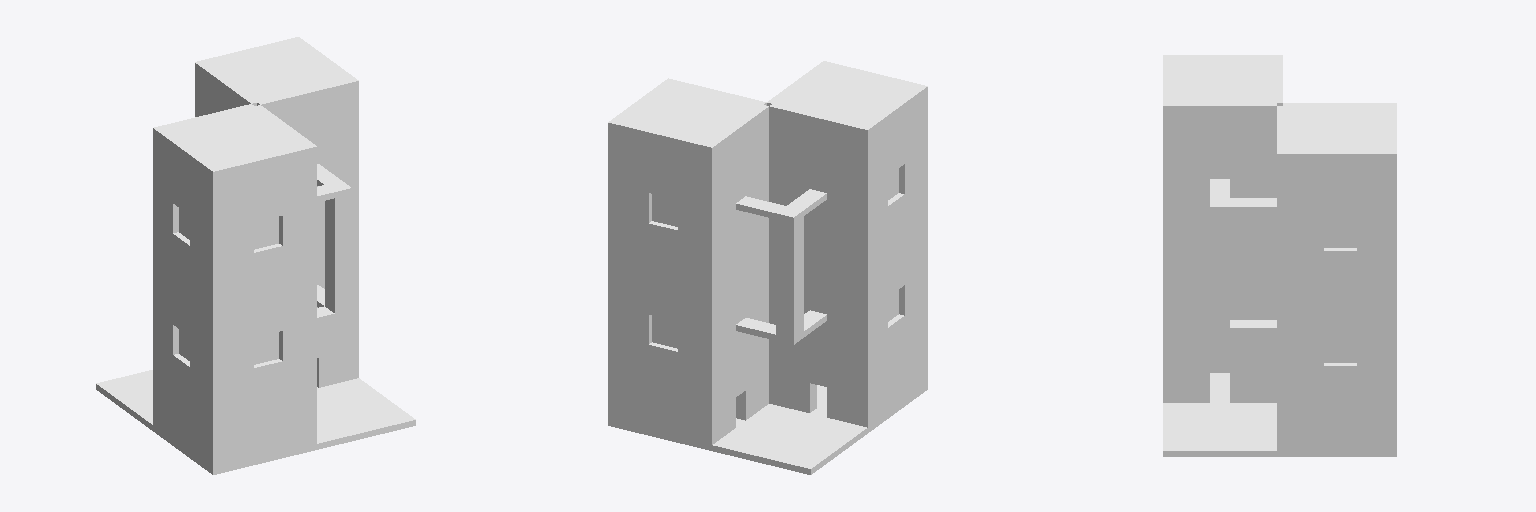
File: bill_F.obj
3 views of the same model, side by side, from view 1: azimuth 30°, elevation 25°; view 2: azimuth 150°, elevation 25°; view 3: azimuth 270°, elevation 25° (orthographic).
Size of the model in its own units: 35 by 50 by 35.